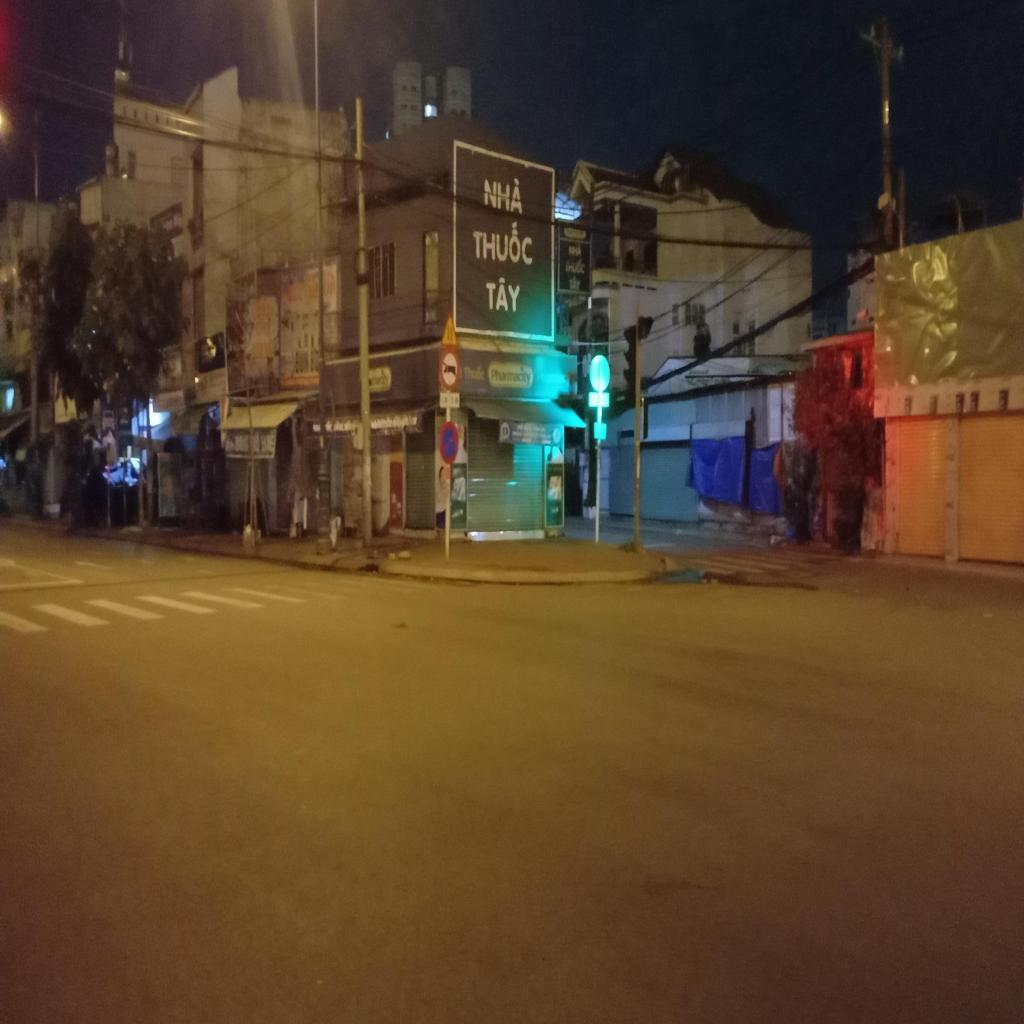cam_do_xe: (439, 421, 459, 465)
cam_o_to_tai: (439, 348, 461, 392)
khac: (441, 312, 458, 348), (440, 394, 459, 408)
